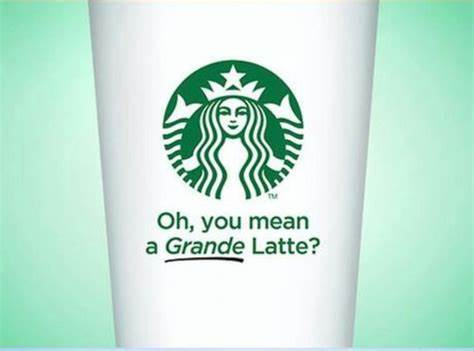starbucks Originale: (151, 56, 316, 203)
